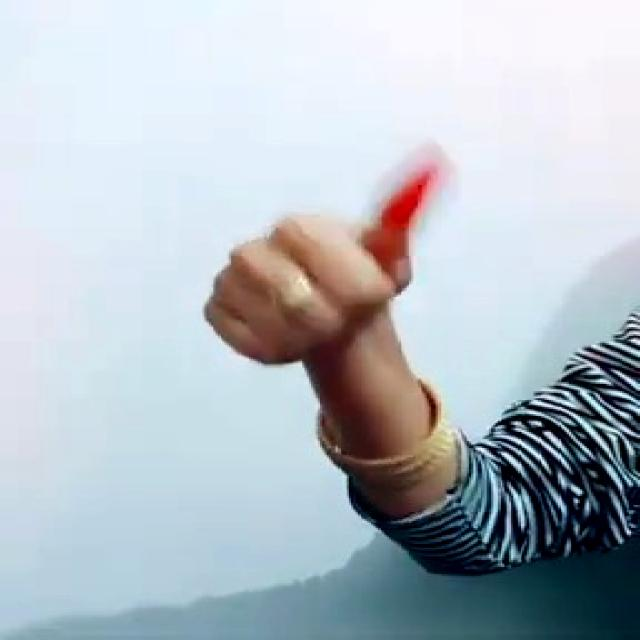Shikhara: (194, 118, 469, 378)
bangle: (278, 388, 479, 478)
